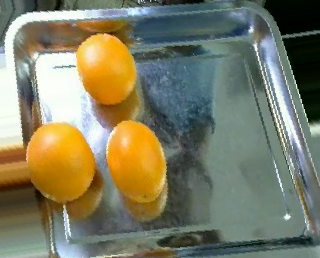Orange: (25, 122, 94, 202), (106, 120, 166, 201), (77, 31, 137, 104)
